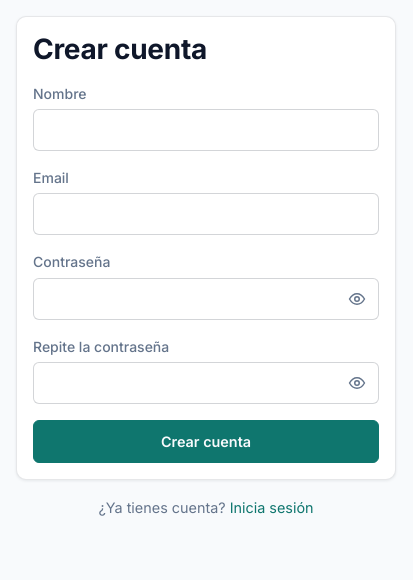
Test: RegisterView › shows field errors from a 422 response instead of redirecting
Type "Odei" into the field with id "name" at (206, 130), box [33,109,379,151]
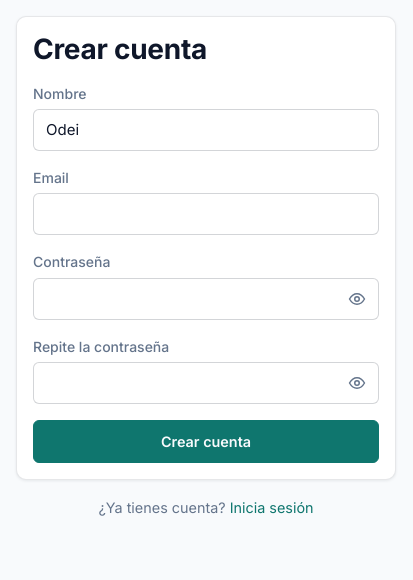
Type "odei@example.com" into the field with id "email" at (206, 214), box [33,193,379,235]
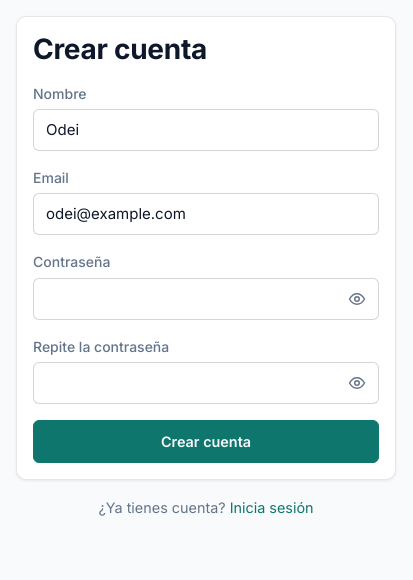
Type "secreto123" into the password field labelled "Contraseña" at (206, 299), box [33,278,379,320]
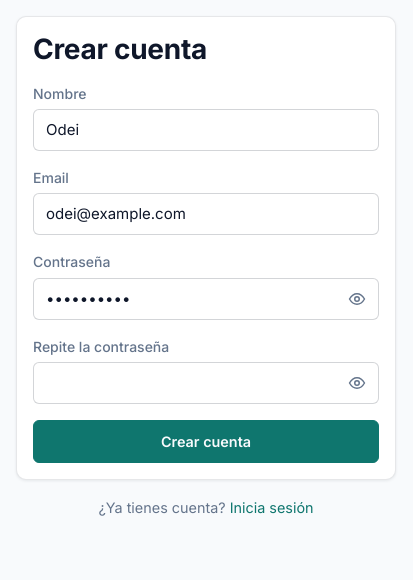
Type "secreto123" into the password field labelled "Repite la contraseña" at (206, 383), box [33,362,379,404]
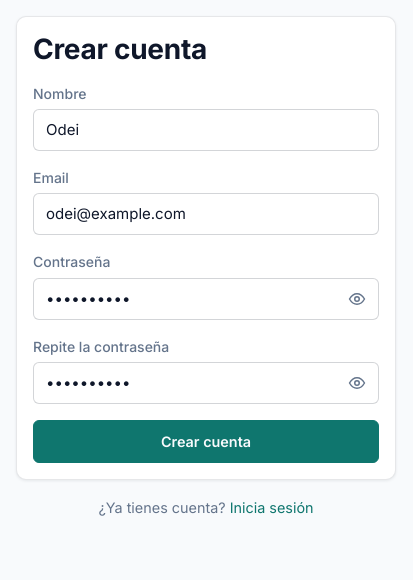
Submit the form, box [33,83,379,463]
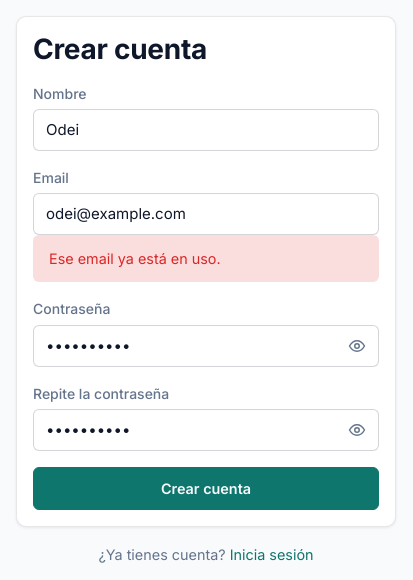
expect the text "Ese email ya está en uso." is shown: met, box [33,235,379,282]
